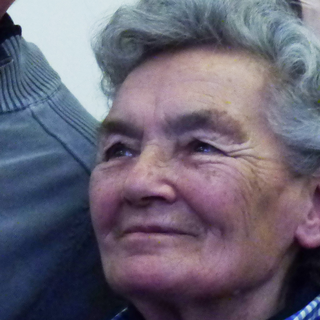eye: (180, 135, 229, 161), (101, 138, 143, 164)
